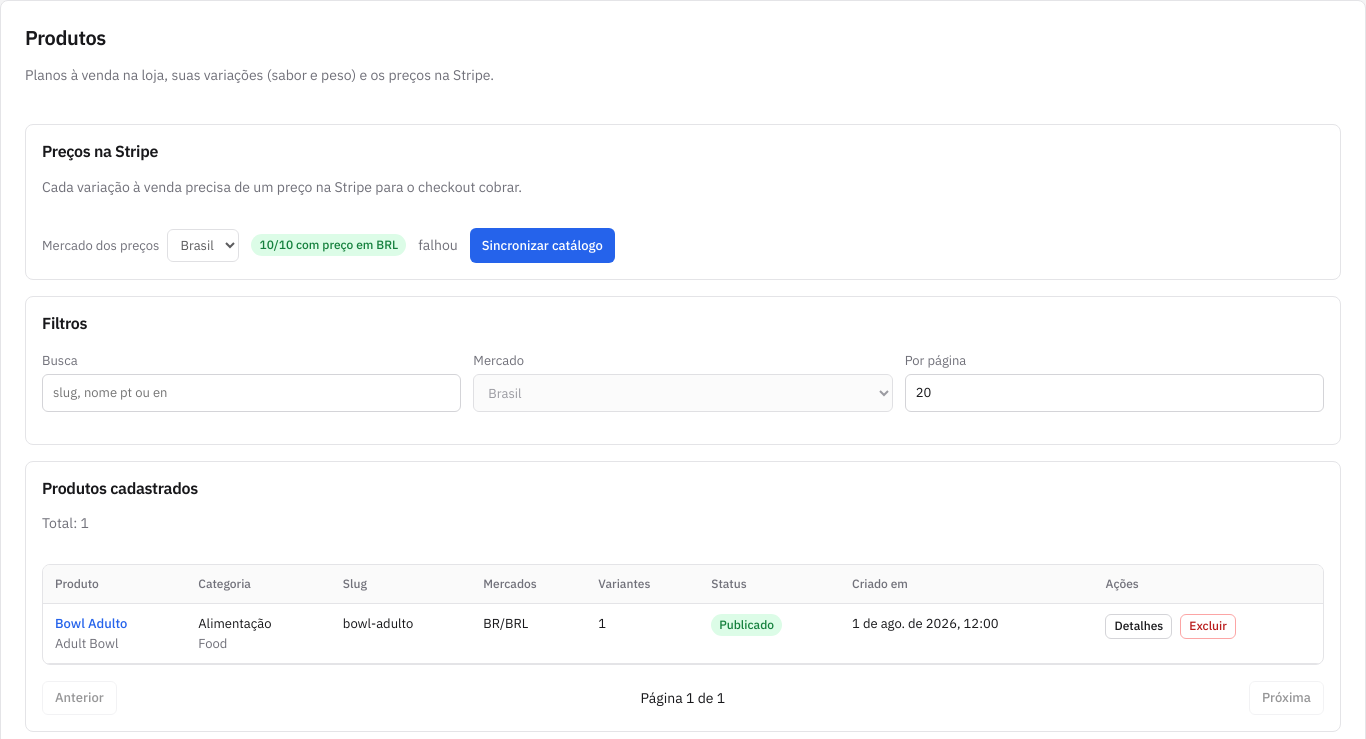
Test: ProductsPage › reloads the list when delete reports the product is in use
The width and height of the screenshot is (1366, 739).
Click the button with aria-label "Excluir produto Bowl Adulto".
click(1208, 626)  # box [1180, 614, 1236, 639]
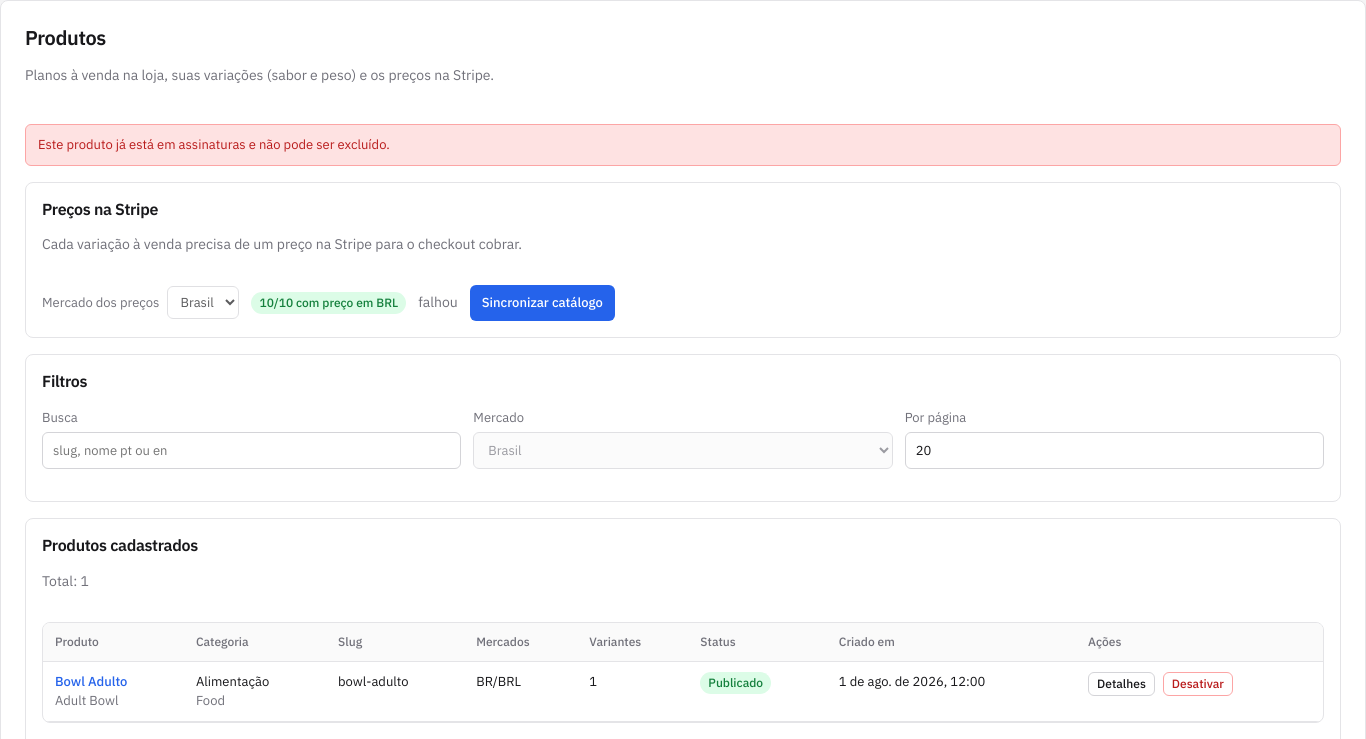
Expected: the link "Bowl Adulto" is shown, [55, 673, 127, 690]
Expected: the text "Este produto já está em assinaturas e não pode ser excluído." is shown, [25, 124, 1341, 166]
Expected: the button with aria-label "Desativar produto Bowl Adulto" is shown, [1163, 672, 1233, 696]
